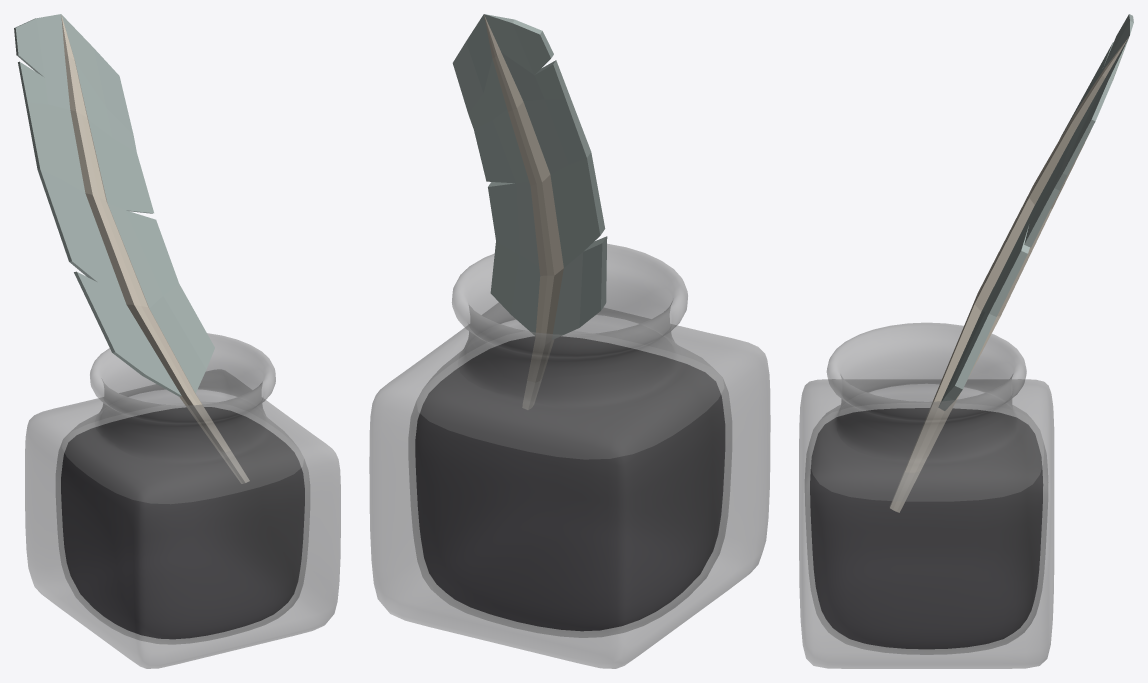
The model's file is Tinteiro.fbx.
3 renders of one model, left to right at view 1: azimuth 30°, elevation 25°; view 2: azimuth 150°, elevation 25°; view 3: azimuth 270°, elevation 25°, orthographic. The views are drawn at different scales.
Parts seen in each view (by area): view 1: InkWell, Liquido, Pena; view 2: InkWell, Liquido, Pena; view 3: InkWell, Liquido, Pena.
Boxes of the visible parts, box(x1,y1,x2,y2) form: InkWell: box(25, 333, 340, 668); Liquido: box(61, 407, 304, 639); Pena: box(14, 14, 249, 483); InkWell: box(369, 243, 770, 668); Liquido: box(415, 336, 725, 631); Pena: box(452, 14, 607, 409); InkWell: box(799, 322, 1054, 668); Liquido: box(810, 408, 1043, 649); Pena: box(890, 14, 1133, 512).
Bounding box in the file's own units: 0.148 × 0.3694 × 0.1941.
